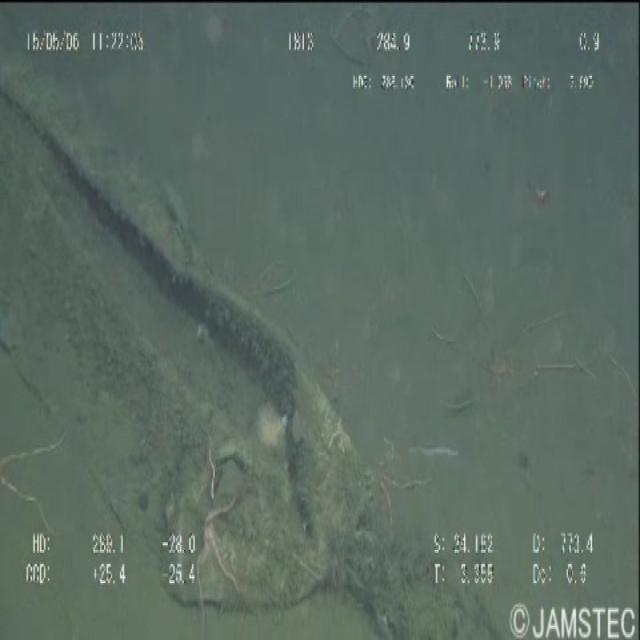Rope: (0, 38, 389, 640)
